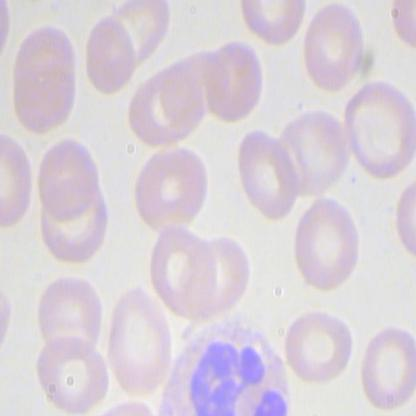RBC: (104, 282, 178, 407), (130, 140, 216, 240), (335, 80, 415, 184), (299, 0, 371, 97), (292, 195, 362, 293), (230, 126, 300, 224), (32, 268, 102, 362), (39, 177, 109, 271), (34, 331, 112, 414), (353, 318, 415, 416), (284, 309, 356, 391), (36, 134, 102, 220), (13, 54, 76, 140), (204, 38, 267, 123), (85, 12, 137, 94), (1, 127, 35, 232), (231, 0, 306, 47)
WBC: (157, 314, 304, 416)
